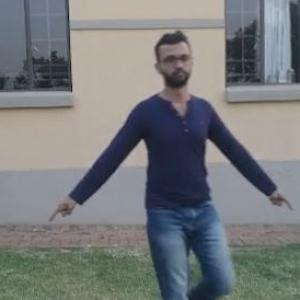land: (94, 60, 272, 299)
